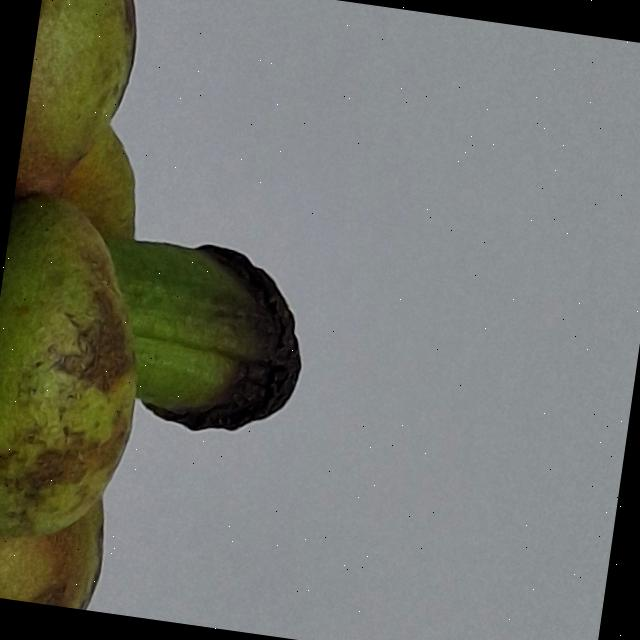mangosteen: (0, 0, 404, 640)
